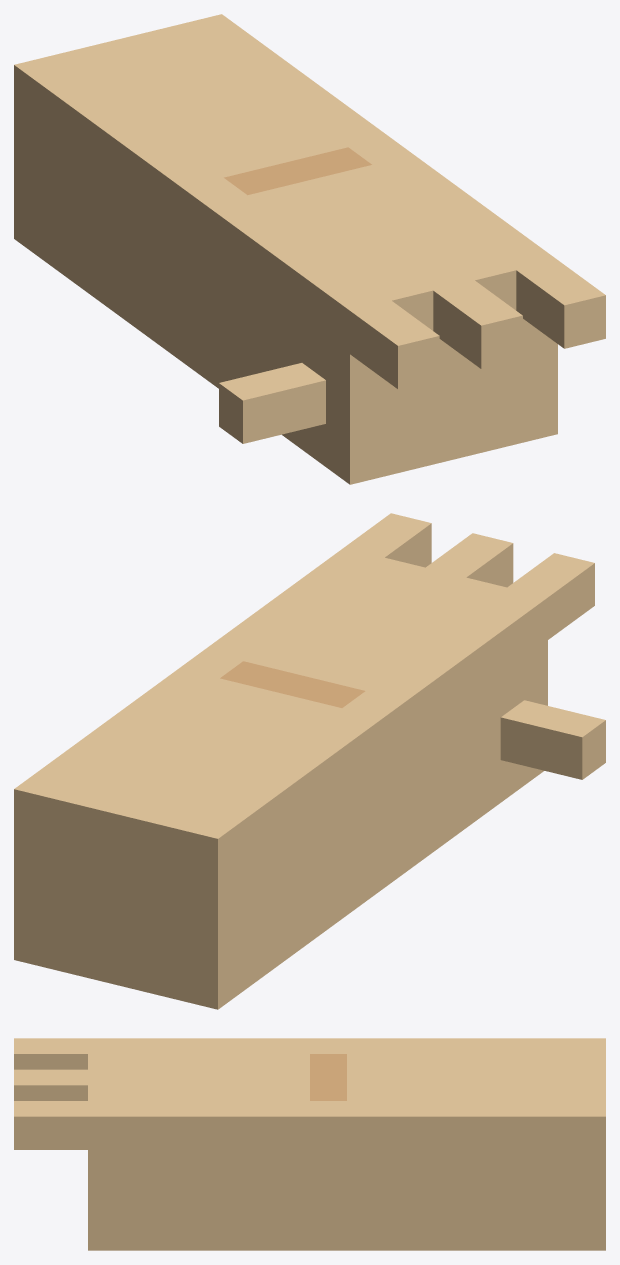
File: Kompot-4.obj
The picture shows the model from 3 angles, top to bottom: view 1: azimuth 30°, elevation 25°; view 2: azimuth 150°, elevation 25°; view 3: azimuth 270°, elevation 25°; orthographic projection. The views are drawn at different scales.
Size of the model in its own units: 0.7 by 0.4 by 1.6.
1 material, 1 textured.
